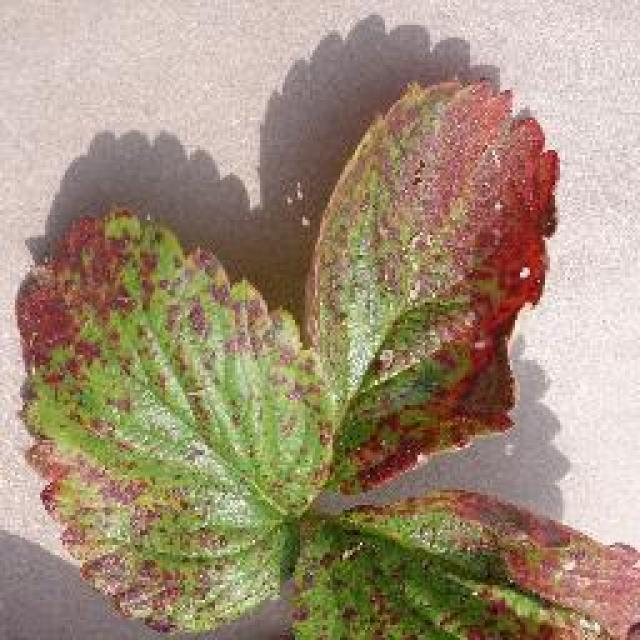Strawberry leaf scorch: (136, 120, 612, 617)
